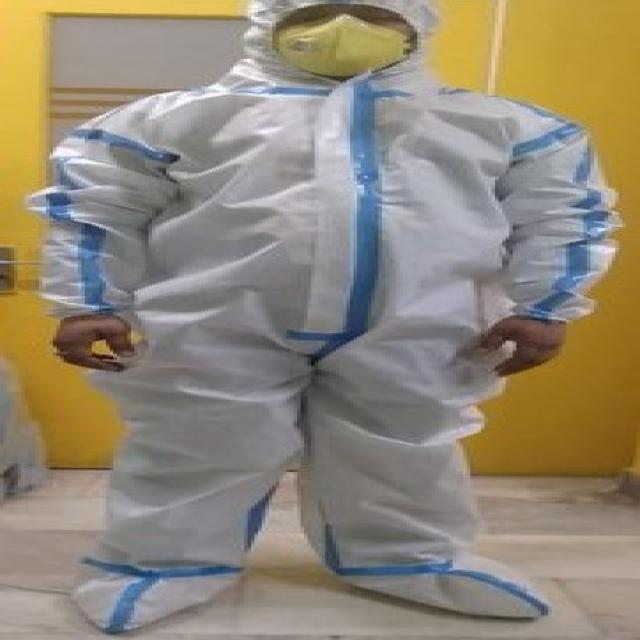Coverall: (32, 0, 626, 636)
Mask: (283, 15, 407, 74)
